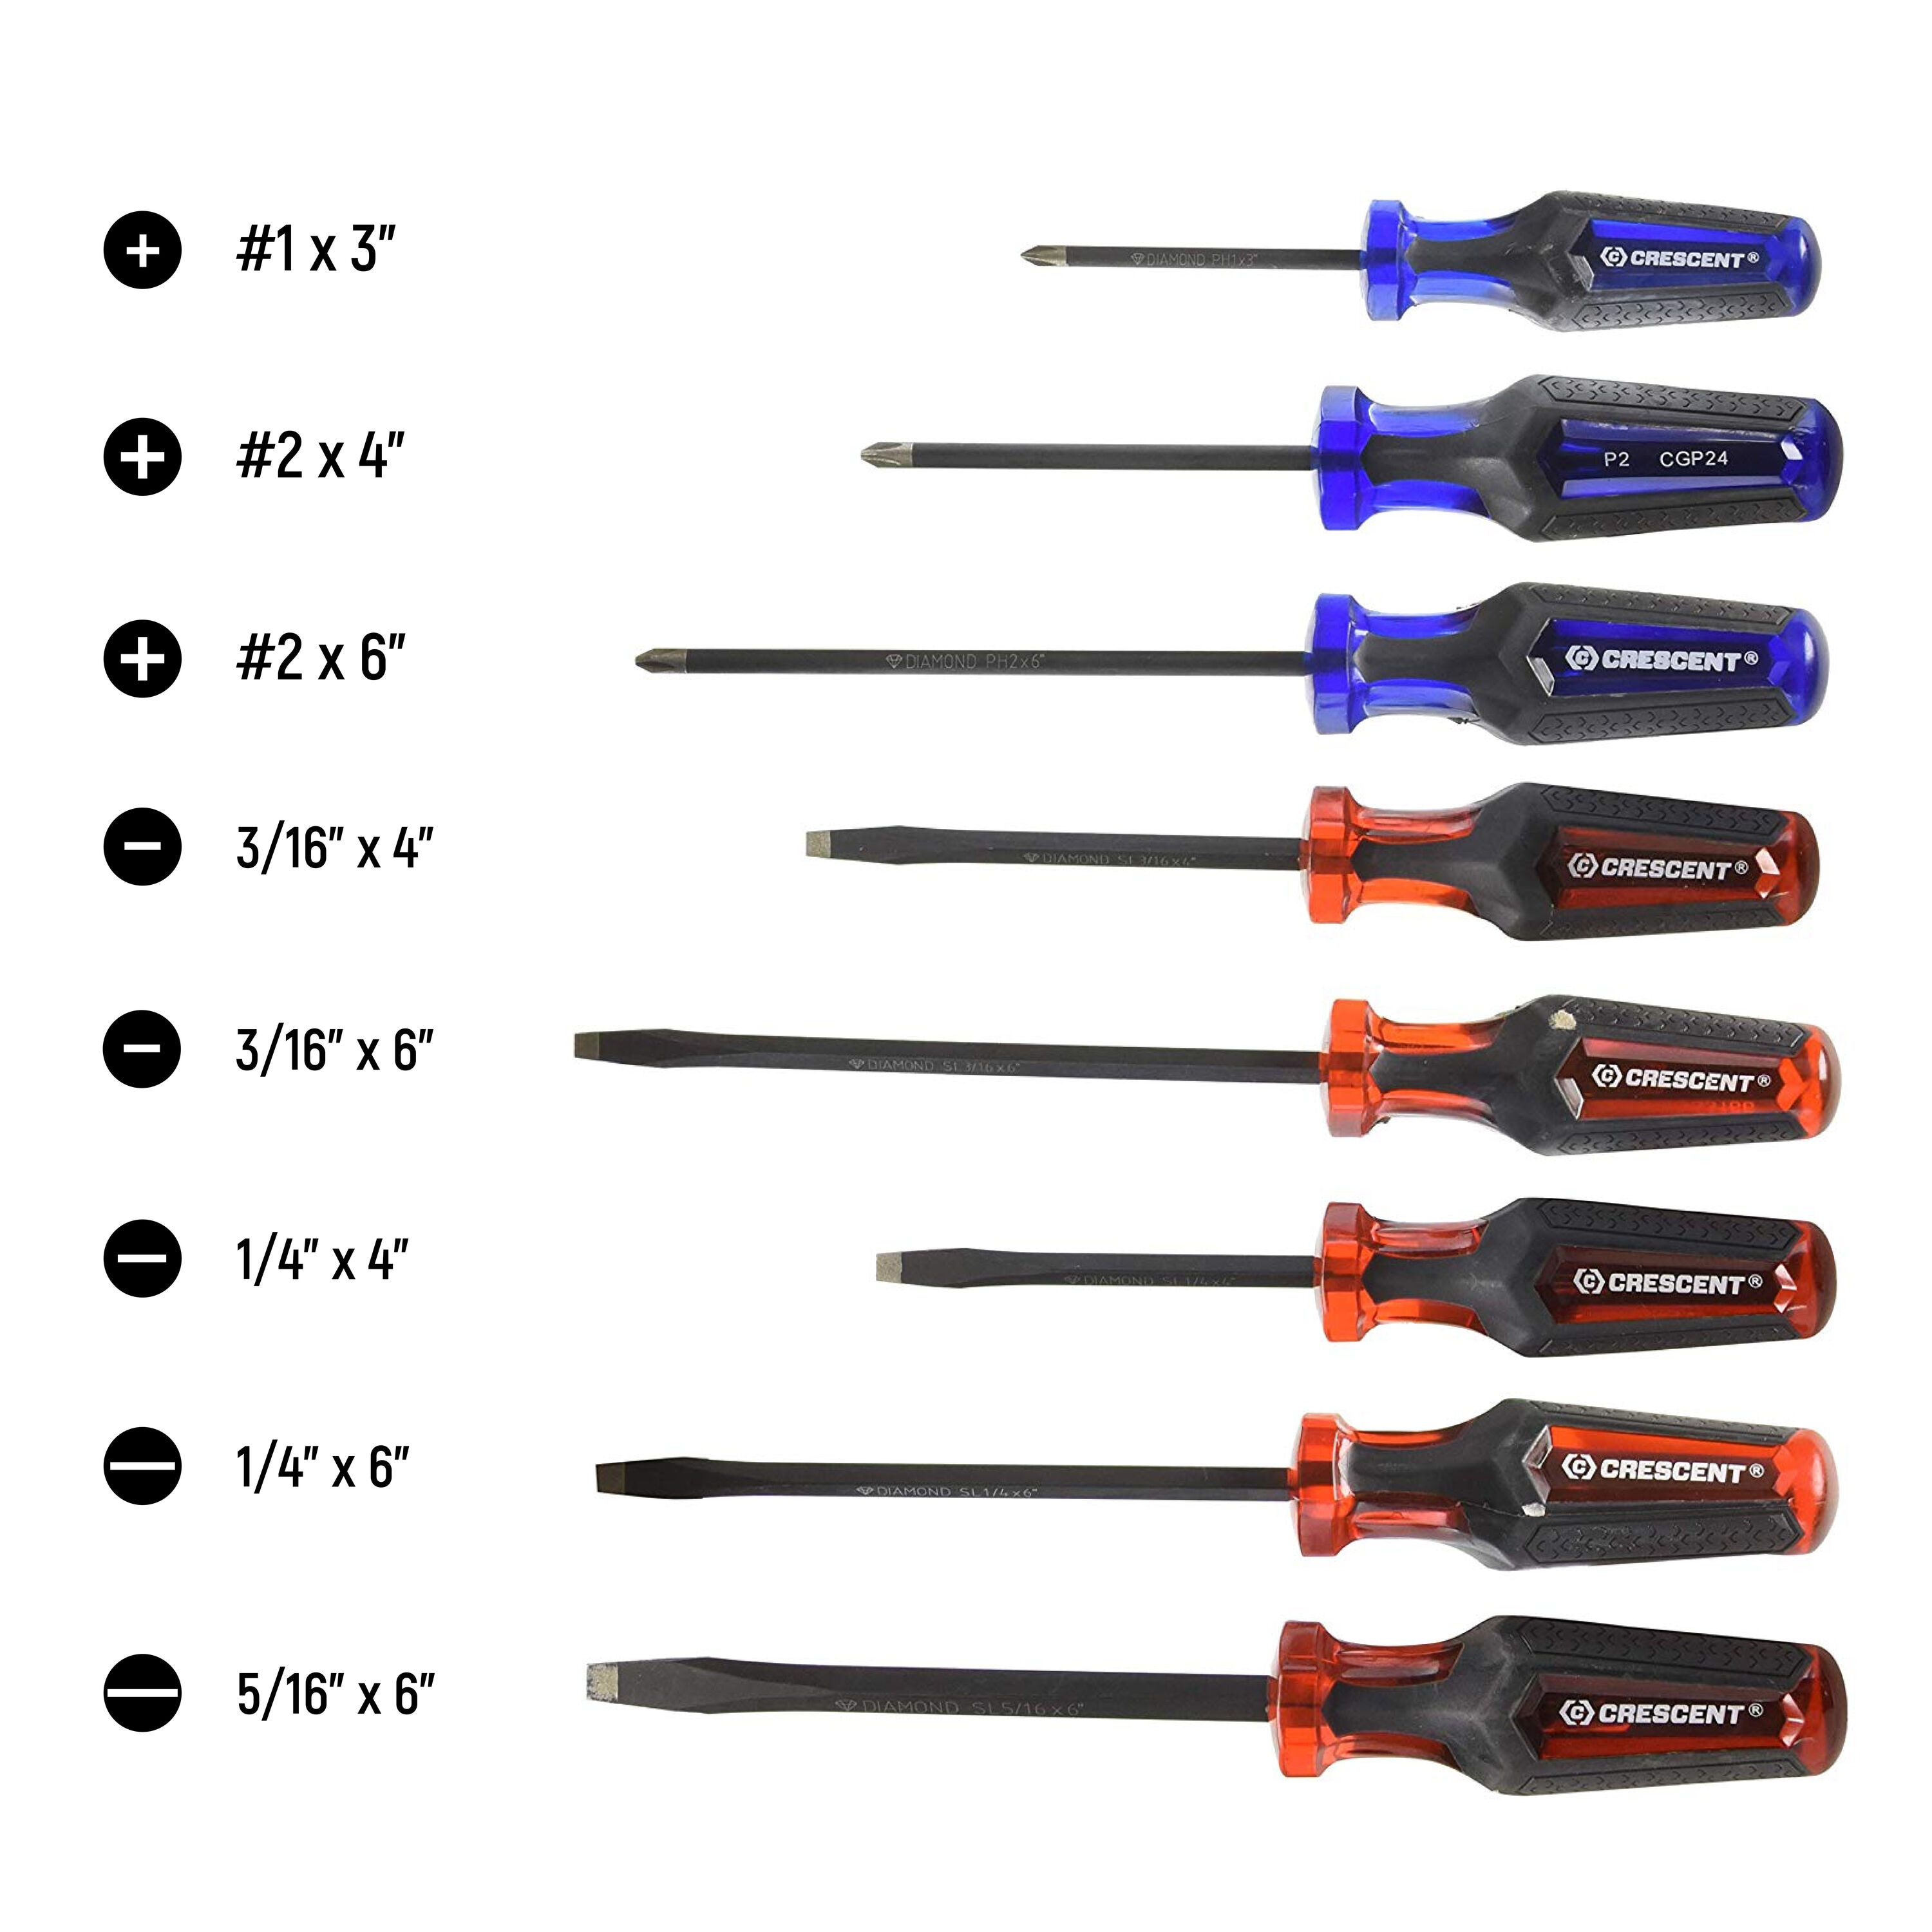screwdriver: (582, 1615, 1845, 1801), (571, 975, 1842, 1157), (591, 1396, 1845, 1576), (630, 580, 1829, 748), (856, 373, 1849, 545), (803, 775, 1822, 941), (876, 1198, 1842, 1357), (1014, 182, 1821, 334)
